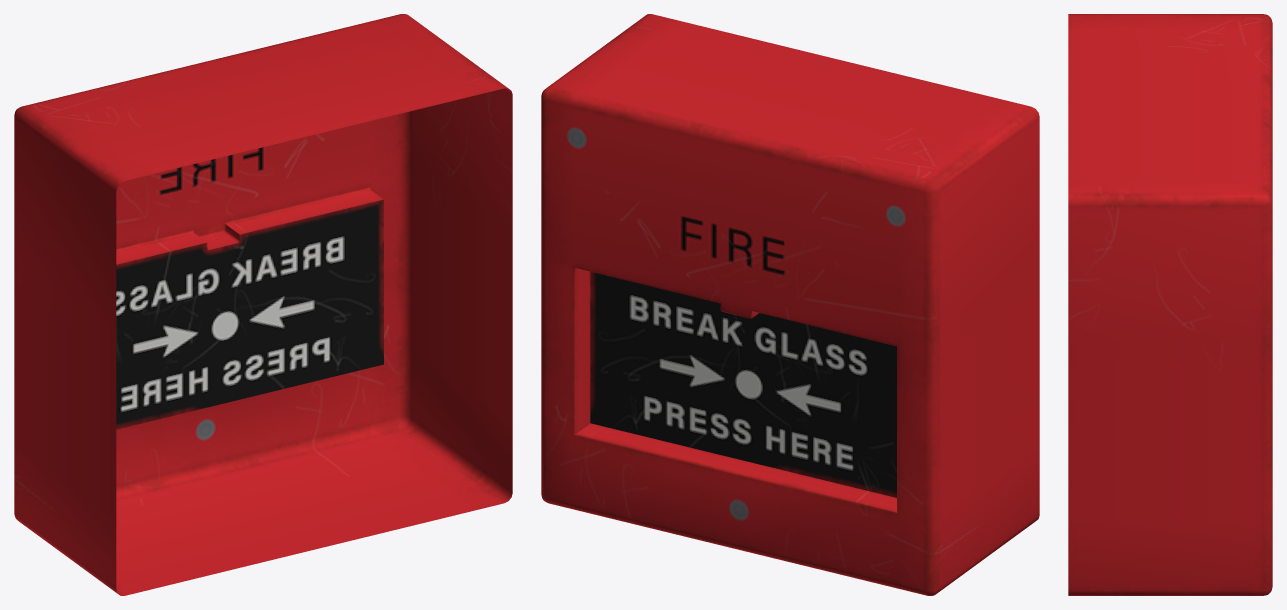
The model's file is fire_alarm.fbx.
3 views of the same model, side by side, from view 1: azimuth 30°, elevation 25°; view 2: azimuth 150°, elevation 25°; view 3: azimuth 270°, elevation 25° (orthographic). The views are drawn at different scales.
Parts seen in each view (by area): view 1: model_0; view 2: model_0; view 3: model_0.
Part boxes in pixels (<box>): model_0: <box>14,14,512,595</box>; model_0: <box>541,14,1039,595</box>; model_0: <box>1068,14,1272,595</box>.
Bounding box in the file's own units: 13.69 × 13.69 × 6.32.
